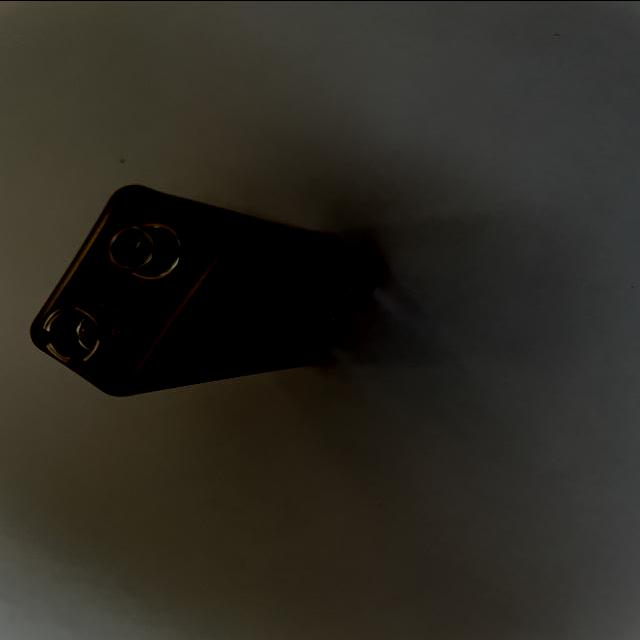9V: (29, 182, 384, 397)
